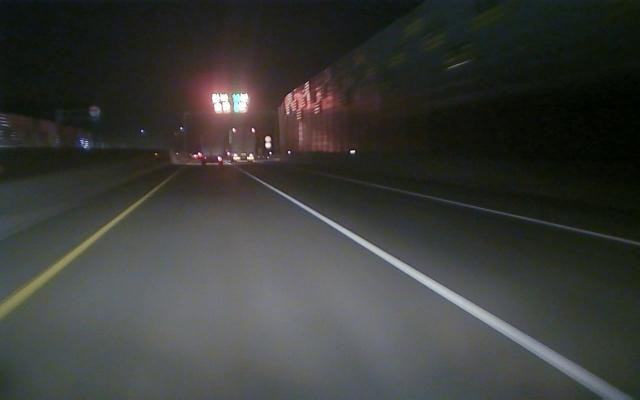lane: (264, 182, 635, 399), (335, 175, 640, 247), (2, 192, 151, 318)
